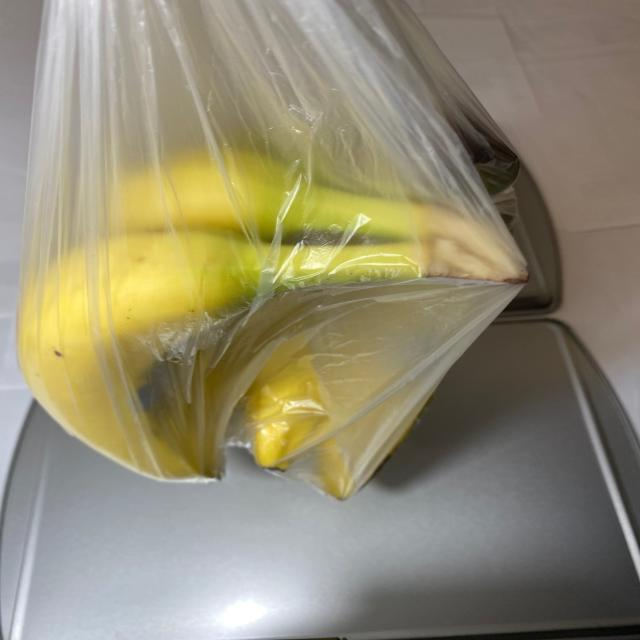banana: (25, 118, 534, 502)
